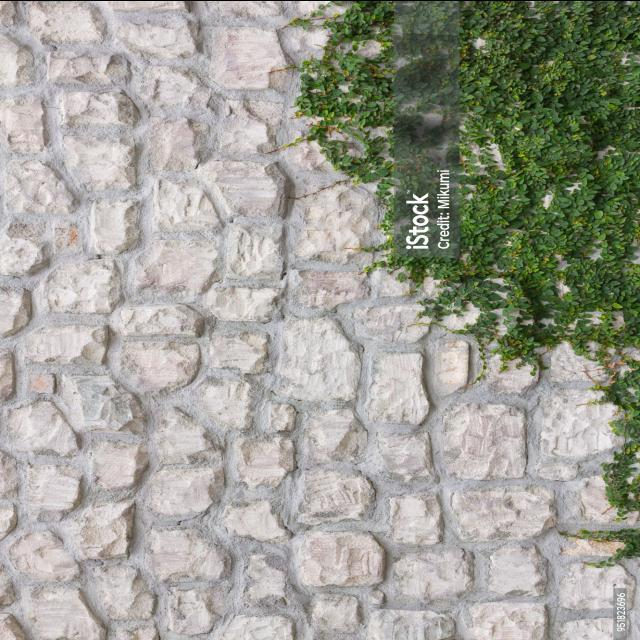crack: (271, 314, 363, 405), (355, 347, 432, 429), (203, 22, 289, 92), (107, 334, 204, 395), (141, 521, 229, 585), (55, 125, 139, 192), (12, 580, 104, 640), (36, 256, 123, 315), (53, 371, 134, 434), (138, 462, 222, 522), (143, 404, 221, 467), (81, 560, 156, 625), (3, 396, 81, 458), (209, 99, 287, 161), (110, 9, 199, 61), (135, 118, 209, 180), (191, 374, 266, 435), (2, 154, 70, 220), (72, 494, 142, 558), (21, 320, 112, 369), (227, 431, 297, 491), (286, 266, 372, 314), (6, 528, 82, 582), (82, 434, 150, 494), (343, 301, 435, 345), (130, 62, 205, 115), (19, 460, 86, 519), (55, 87, 139, 134), (28, 2, 111, 49), (217, 495, 296, 544), (3, 211, 67, 269), (202, 326, 273, 377), (160, 584, 227, 637), (85, 197, 144, 257), (237, 549, 300, 604), (274, 19, 343, 69), (48, 50, 129, 90), (17, 363, 84, 409), (1, 95, 52, 154), (205, 611, 294, 640), (200, 1, 291, 26), (274, 165, 299, 246), (0, 286, 33, 339)
dampness: (256, 298, 389, 626), (125, 169, 233, 306)
vegetation: (271, 0, 639, 561), (458, 5, 636, 180), (286, 6, 410, 180), (299, 3, 393, 46)
